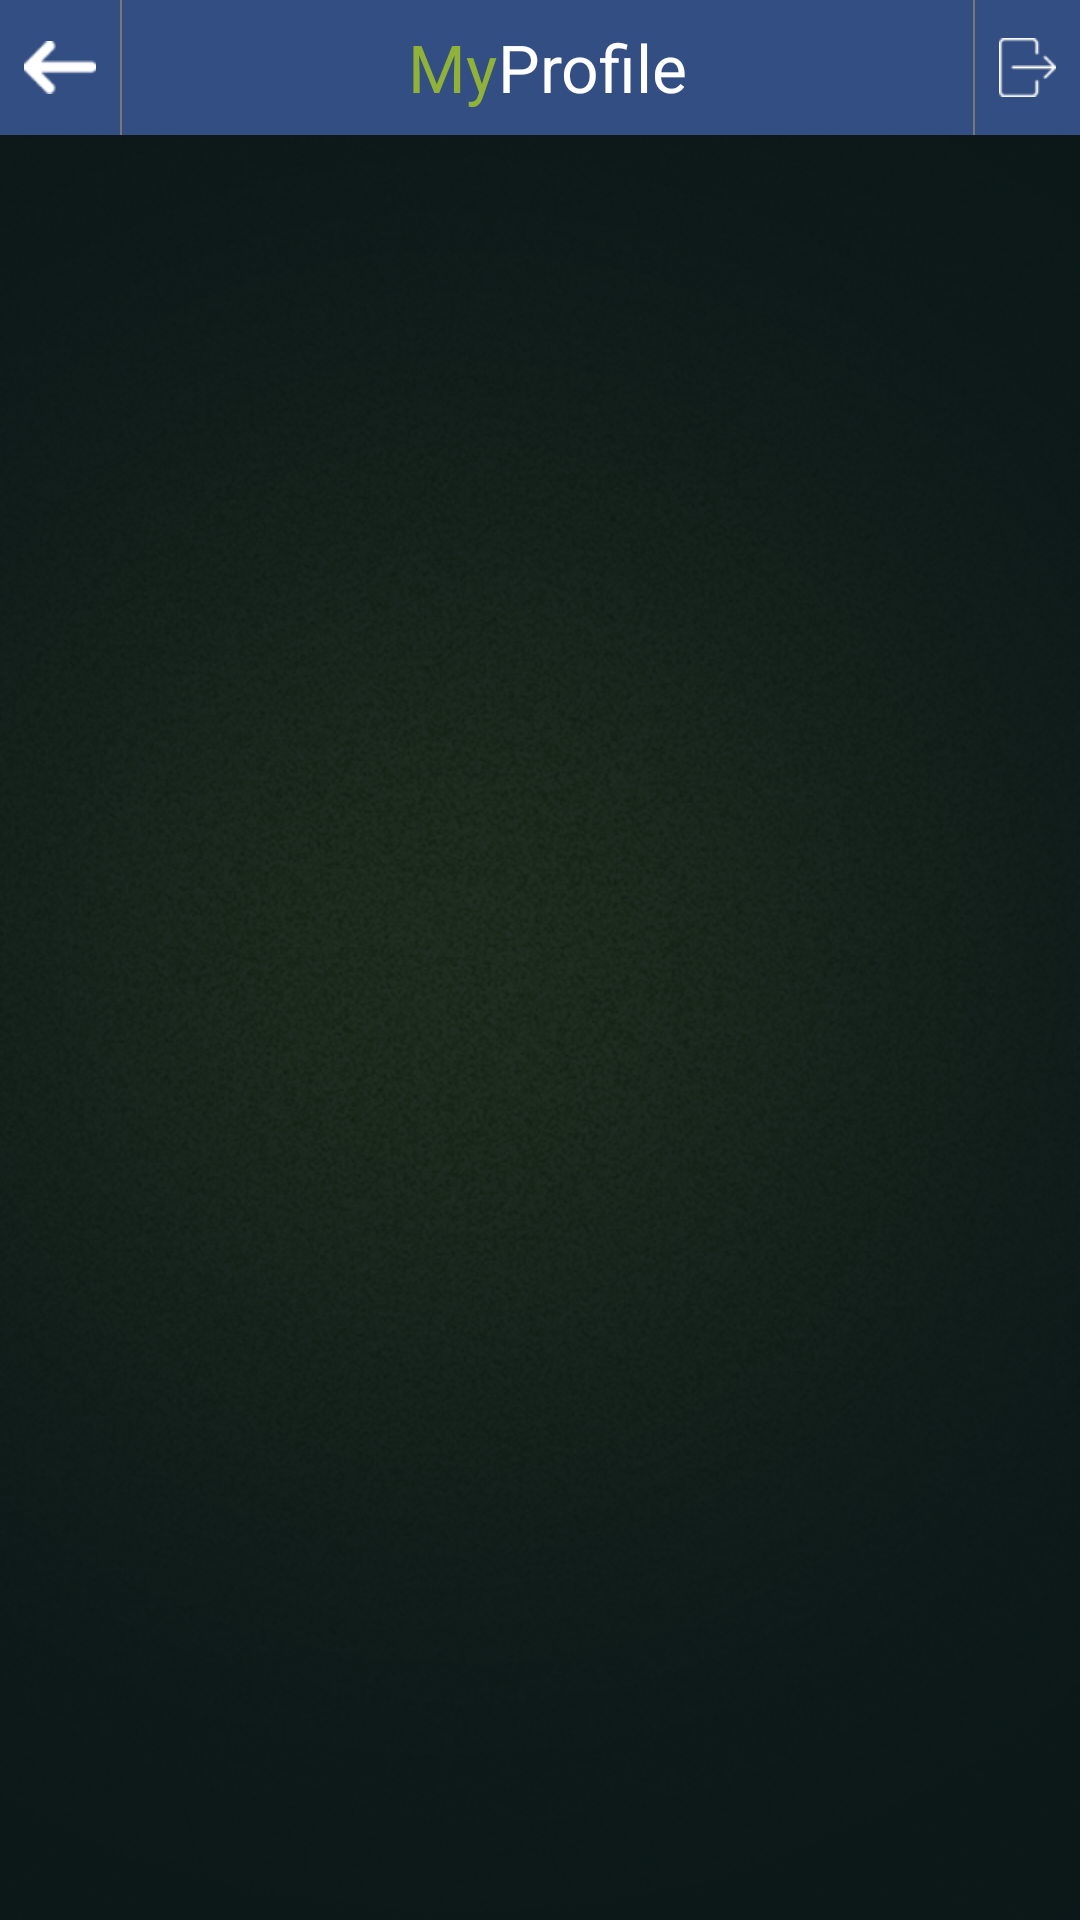

Where icons sit on this 1080px x 1920px app screen, as (x1, y1, x2, y2):
back: (24, 41, 96, 94)
